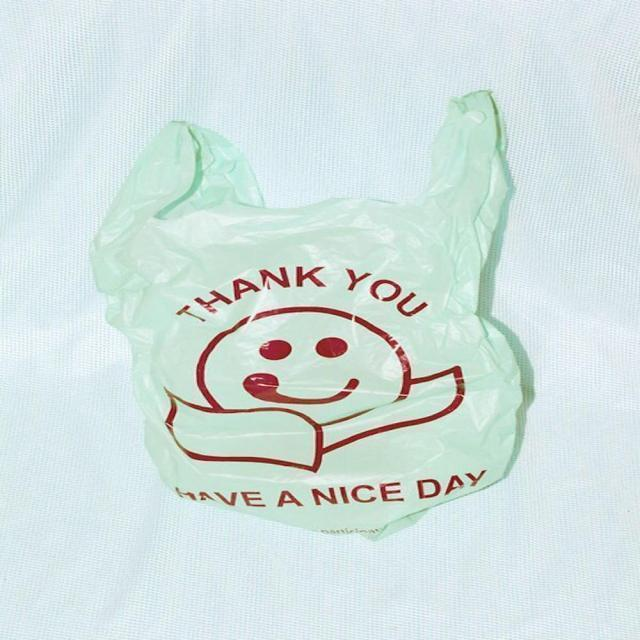Plastic_Bag: (90, 92, 534, 536)
